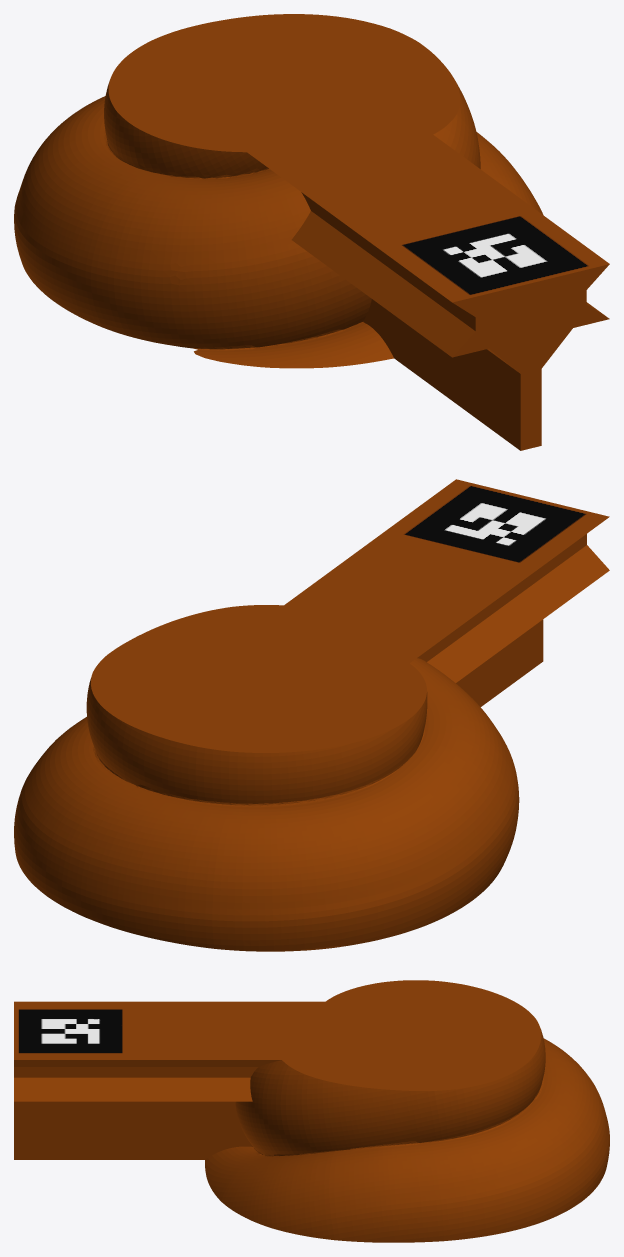
File: poop2.dae
The picture shows the model from 3 angles, top to bottom: view 1: azimuth 30°, elevation 25°; view 2: azimuth 150°, elevation 25°; view 3: azimuth 270°, elevation 25°; orthographic projection. The views are drawn at different scales.
Visible parts, largest first — view 1: poop2; view 2: poop2; view 3: poop2.
Part boxes in pixels (x1,y1,x2,y2): poop2: [14, 14, 609, 450]; poop2: [14, 479, 609, 951]; poop2: [14, 980, 609, 1242].
Size of the model in its own units: 0.0855 by 0.1295 by 0.03.
1 material, 1 textured.
